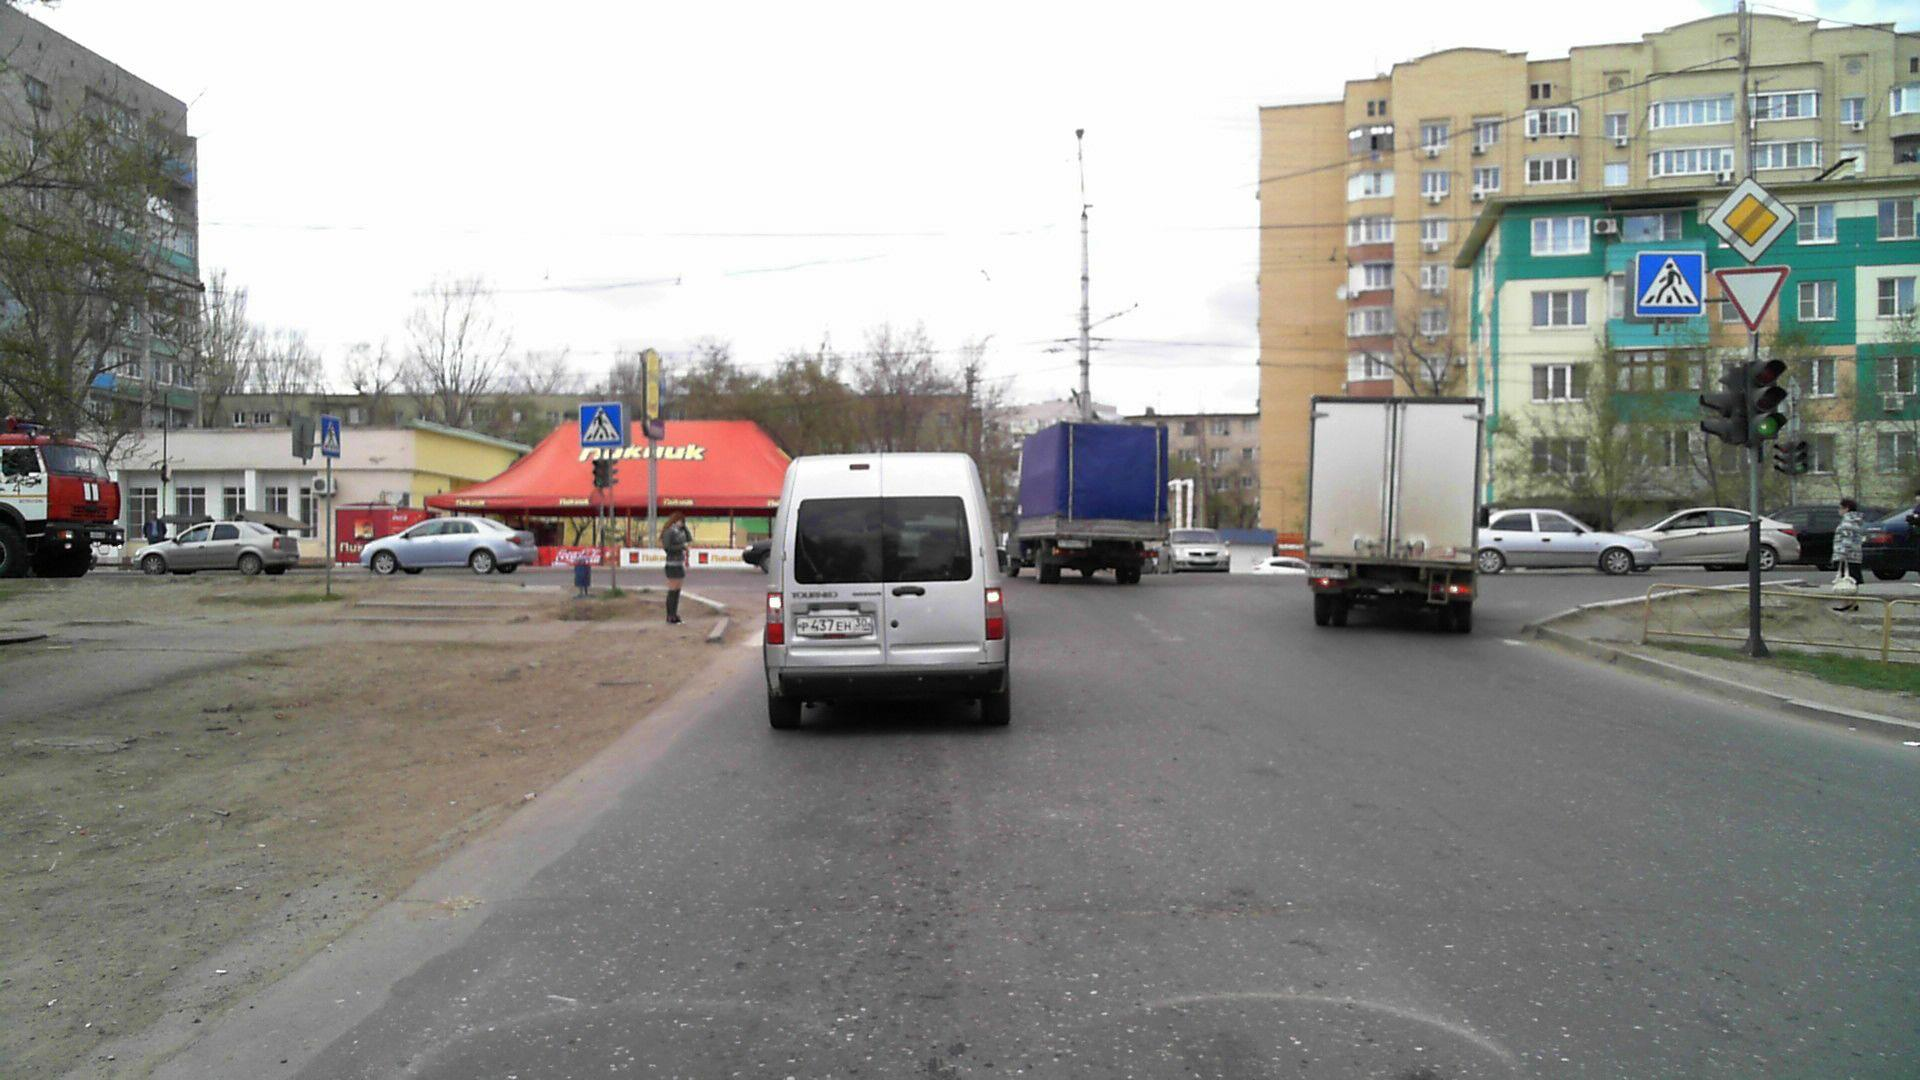2_2: (1705, 175, 1797, 262)
2_4: (1712, 262, 1792, 331)
5_19_1: (1635, 249, 1701, 319)
5_19_2: (580, 404, 624, 444), (320, 417, 343, 456)
